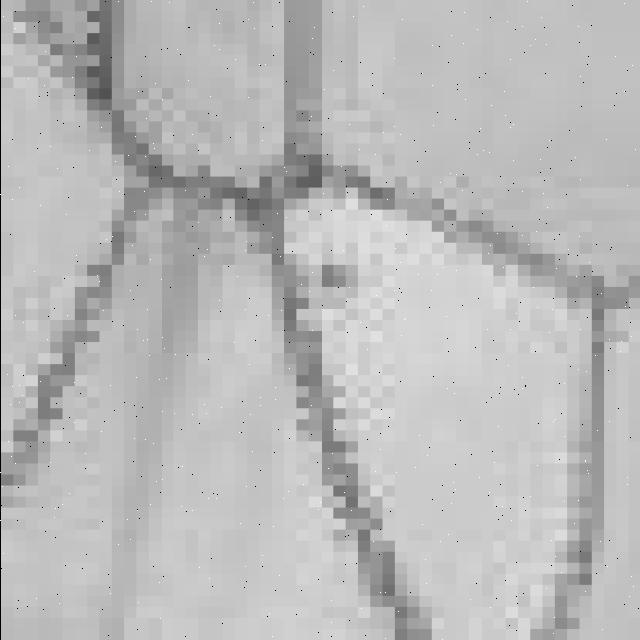good_void: (302, 244, 364, 312)
